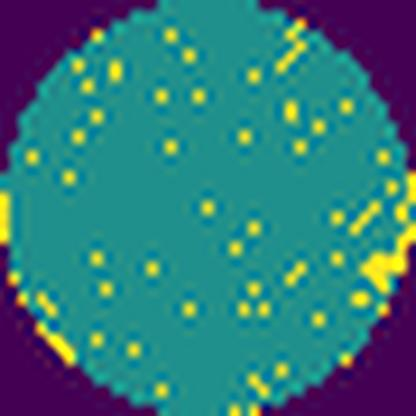Edge-Loc: (352, 163, 415, 297)
